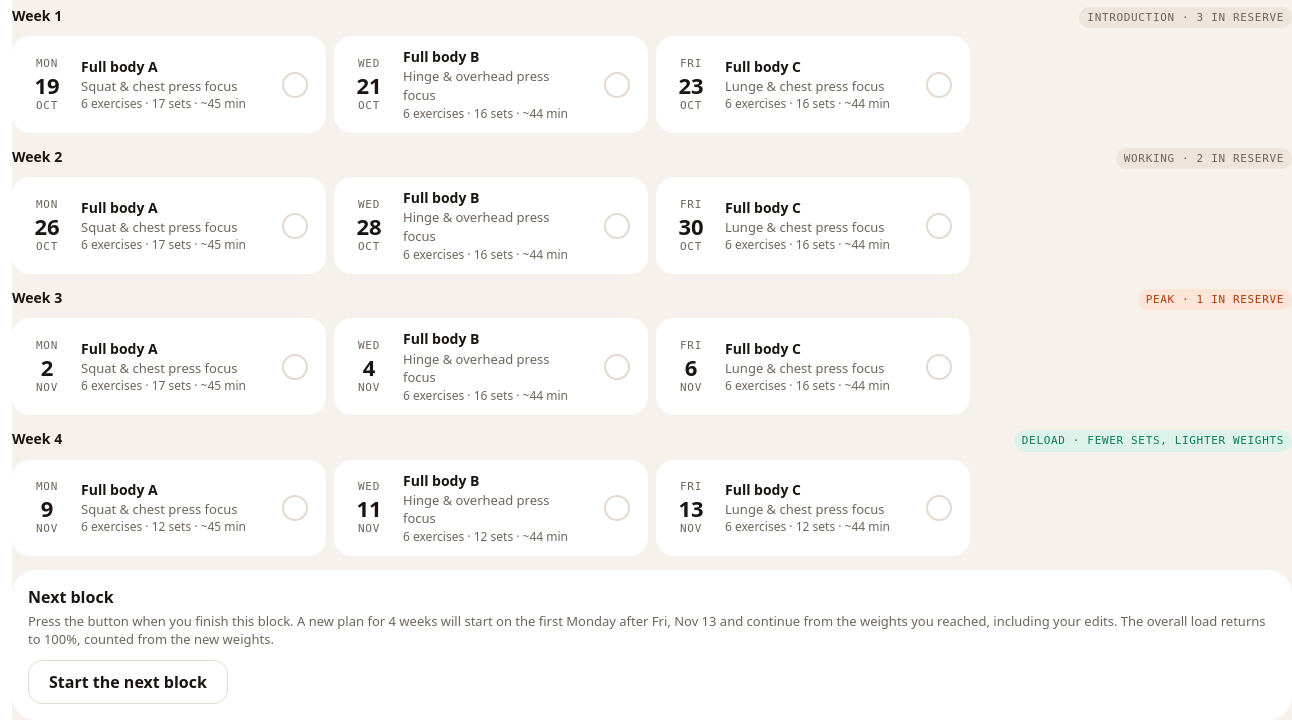
Test: PlanScreen › starts the next block only after a confirmation
(page scrolled)
Expected: the element "Next block" shows "Press the button when you finish this block.", [28,612,1266,648]
Expected: the element "Next block" shows "A new plan for 4 weeks will start on the first Monday after Fri, Nov 13", [28,612,1266,648]
Click the button "Start the next block": x=128, y=682 [28,660,228,704]
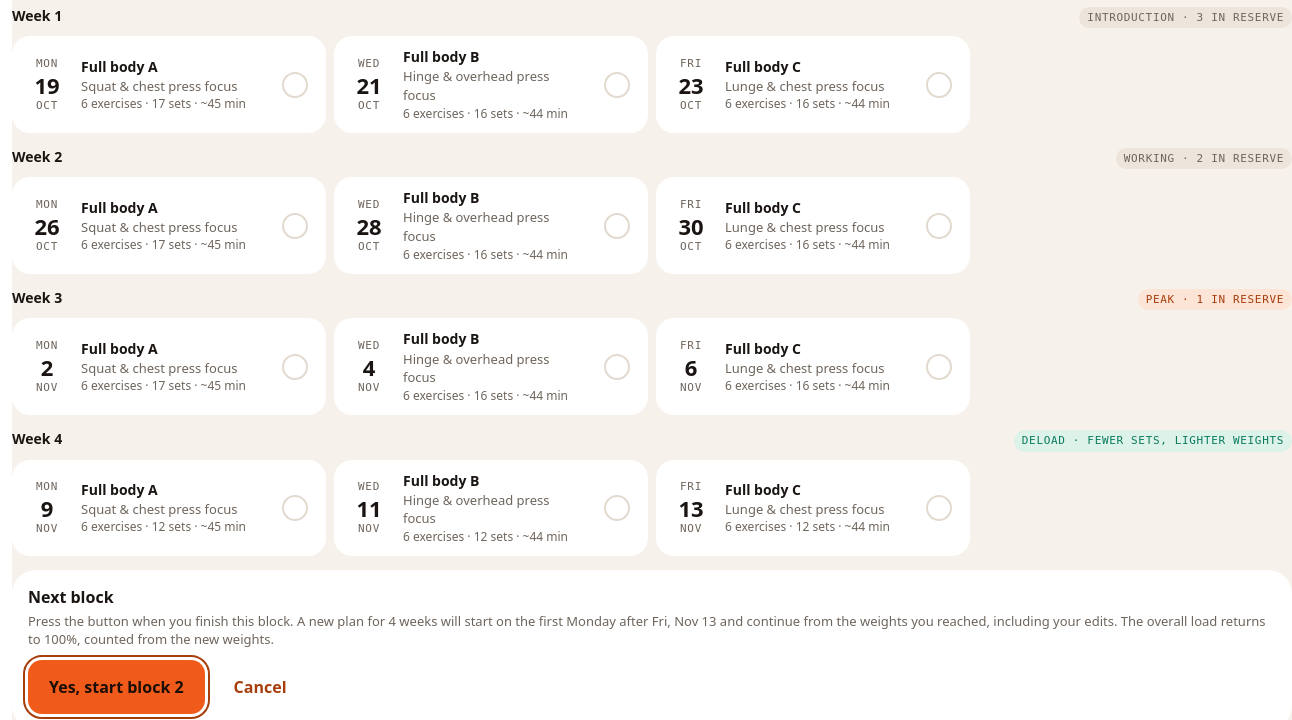
Click the button "Cancel": x=260, y=687 [213,665,308,709]
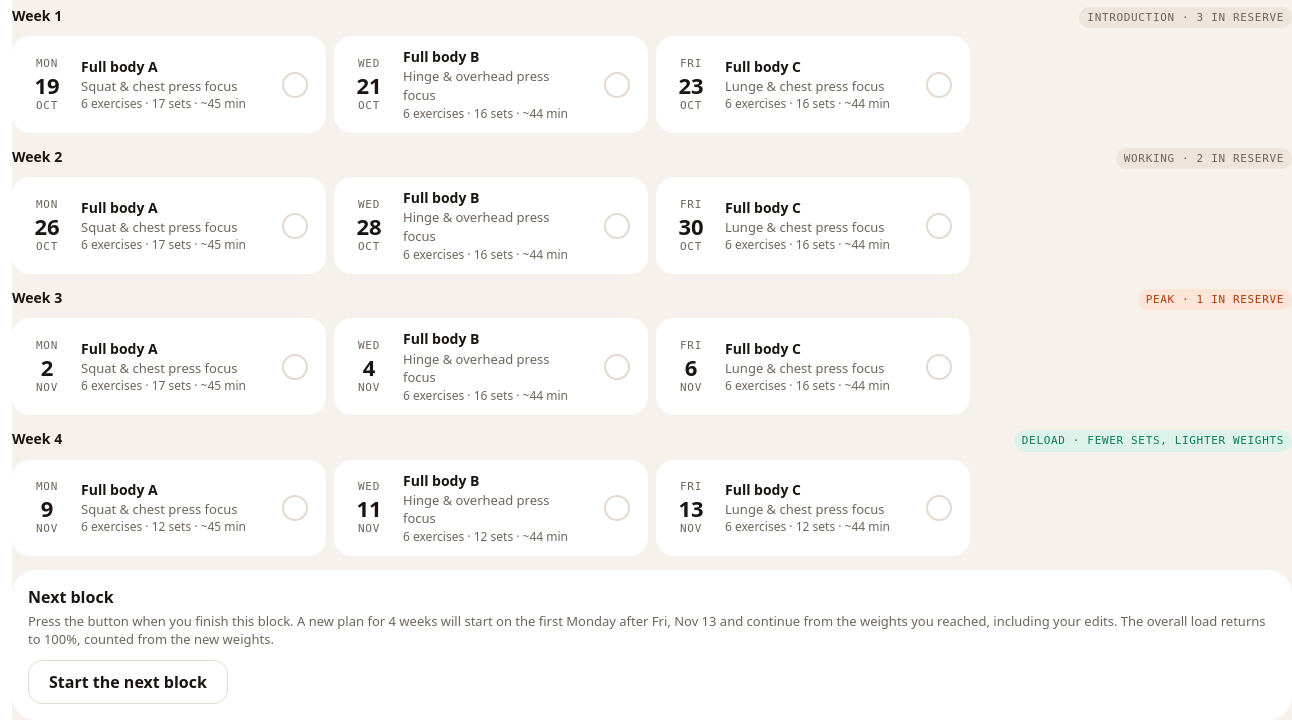
Click the button "Start the next block": x=128, y=682 [28,660,228,704]
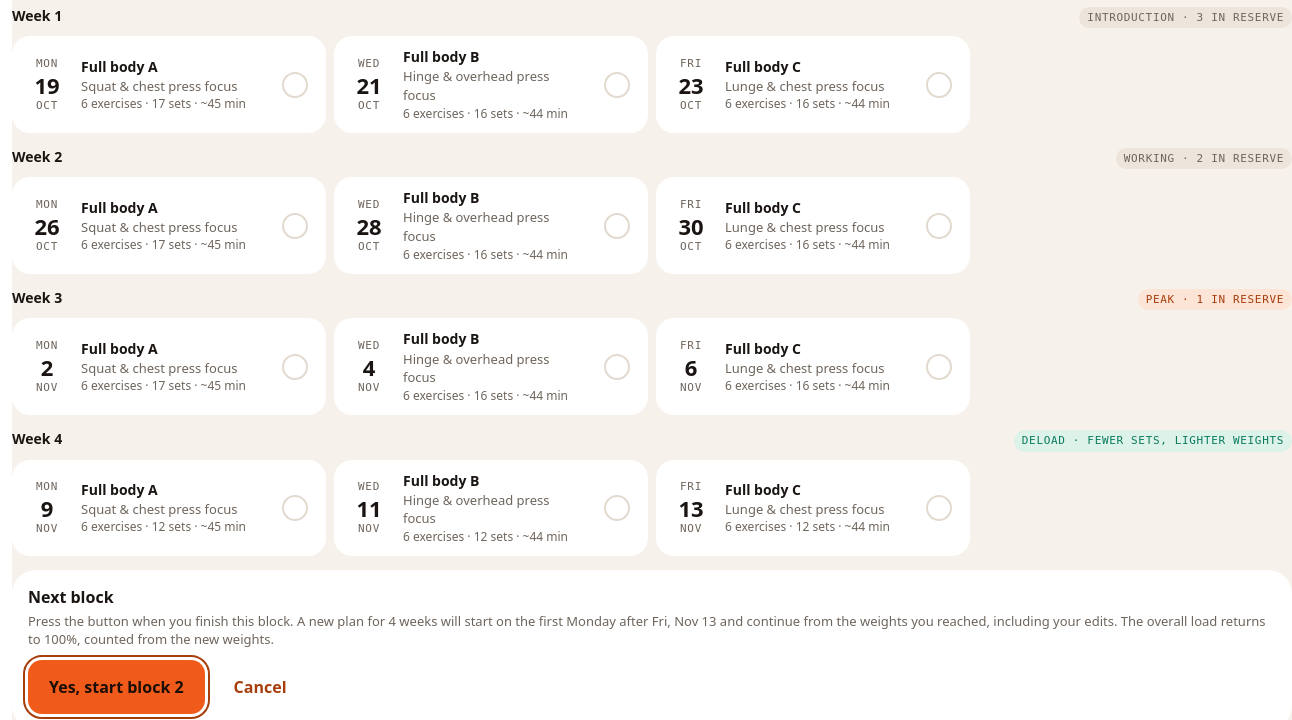
Click the button "Yes, start block 2": x=116, y=687 [28,660,205,714]
(page scrolled)
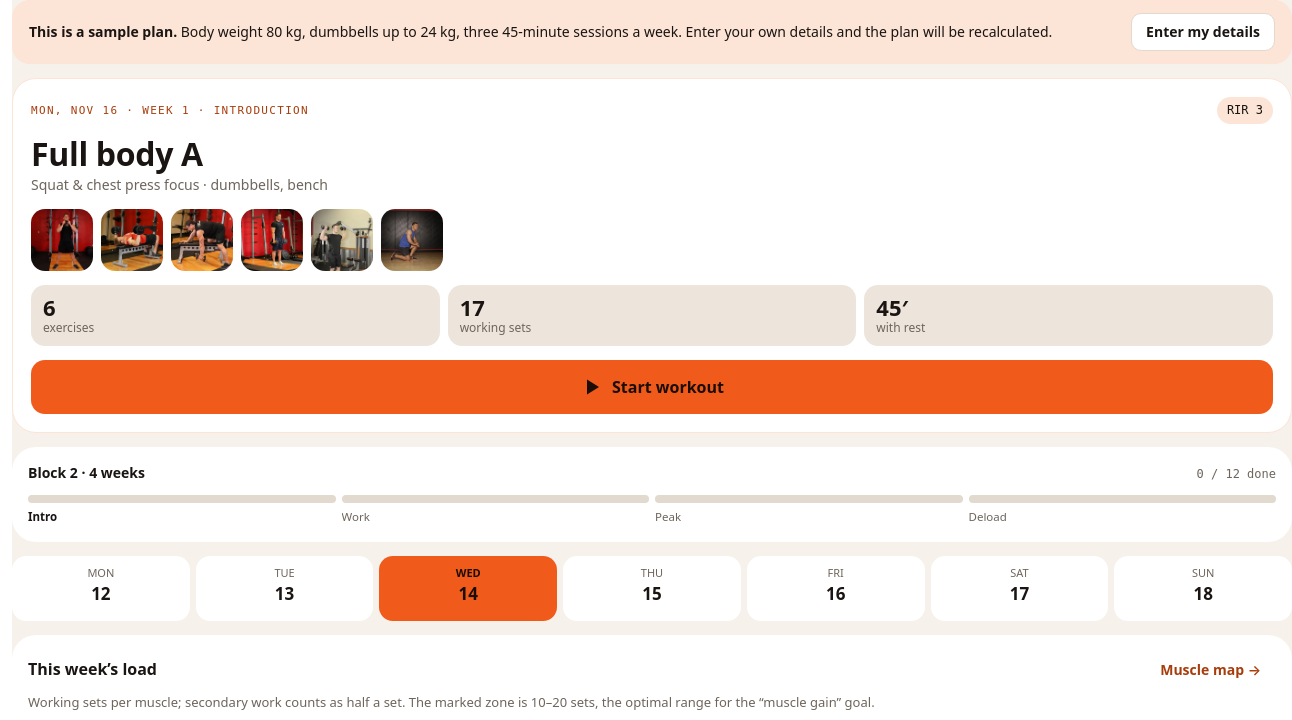
Now the element "Block 2 · 4 weeks" is shown, box [12,447,1291,542]
